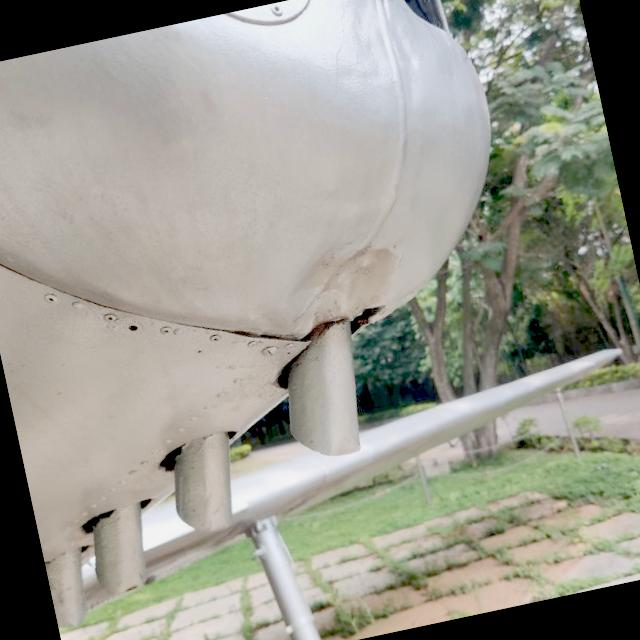dent: (254, 211, 427, 361)
